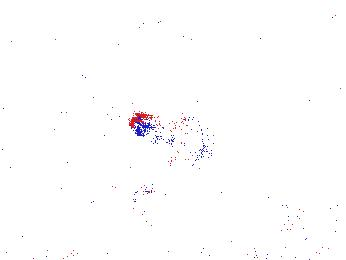flame jellyfish: (128, 113, 214, 179), (274, 171, 346, 228), (104, 143, 156, 203)
